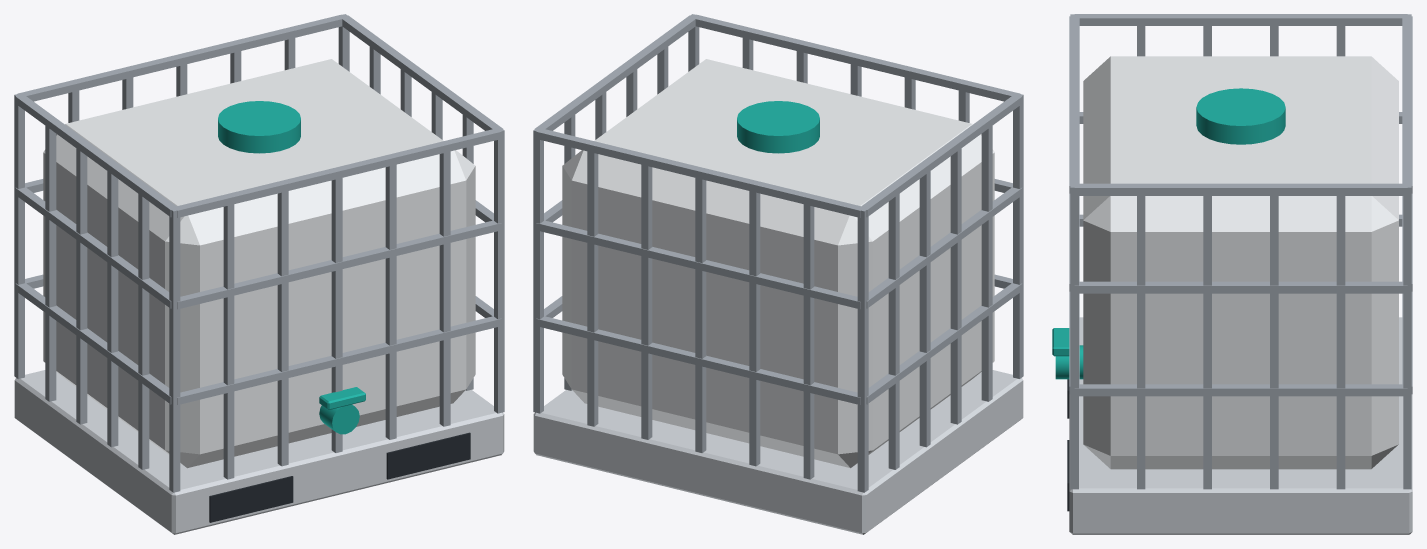
The model's file is ibc-tote.glb.
3 renders of one model, left to right at view 1: azimuth 30°, elevation 25°; view 2: azimuth 150°, elevation 25°; view 3: azimuth 270°, elevation 25°, orthographic. The views are drawn at different scales.
Visible parts, largest first — view 1: ibc-tote; view 2: ibc-tote; view 3: ibc-tote.
Part boxes in pixels (x1,y1,x2,y2): ibc-tote: [14, 14, 504, 534]; ibc-tote: [533, 14, 1023, 534]; ibc-tote: [1052, 14, 1412, 534].
Bounding box in the file's own units: 1.2 × 1.12 × 1.05.
